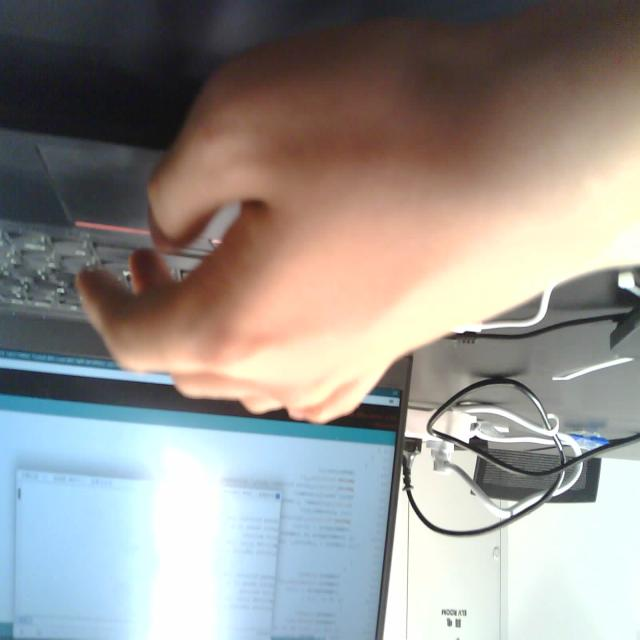keyboard-with-hands: (0, 127, 423, 349)
